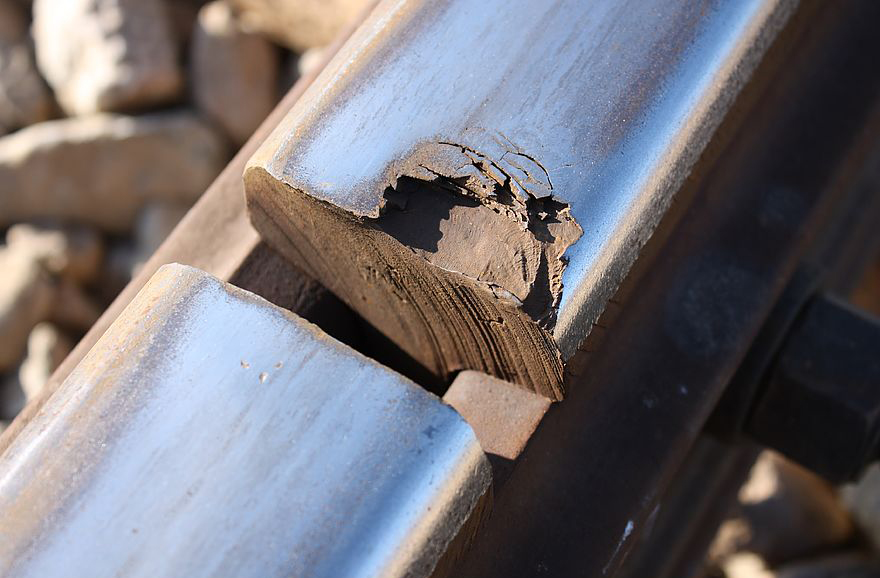error2: (123, 111, 605, 491)
